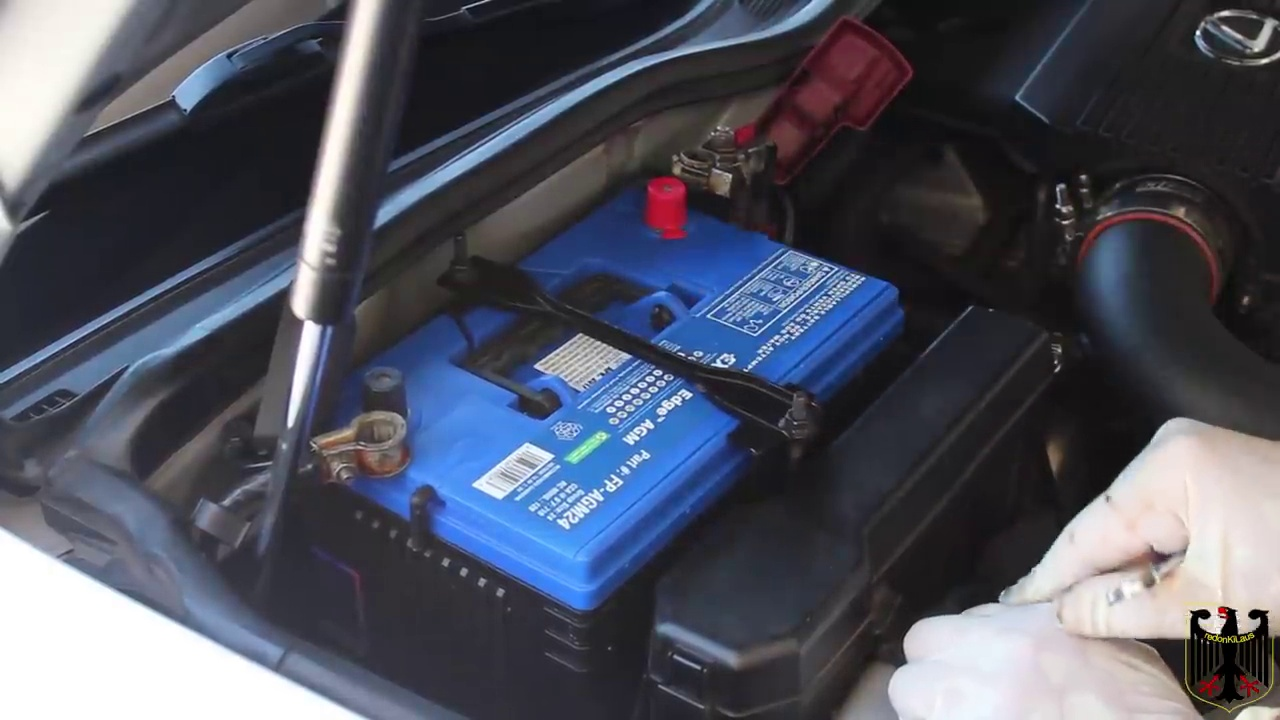battery: (286, 182, 895, 561)
pos_disconnected: (599, 74, 894, 244)
